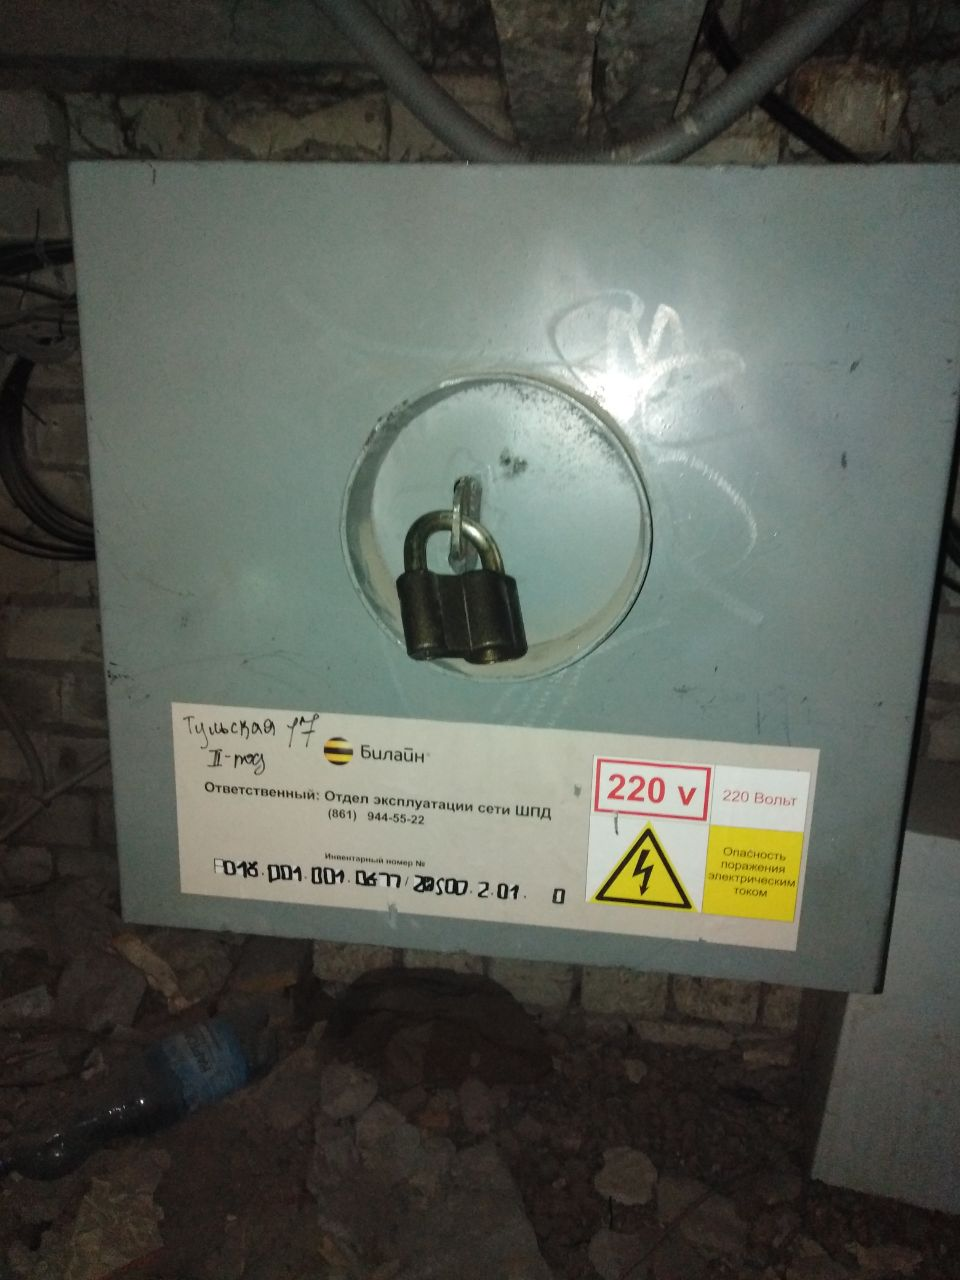shta-9: (58, 153, 951, 1006)
